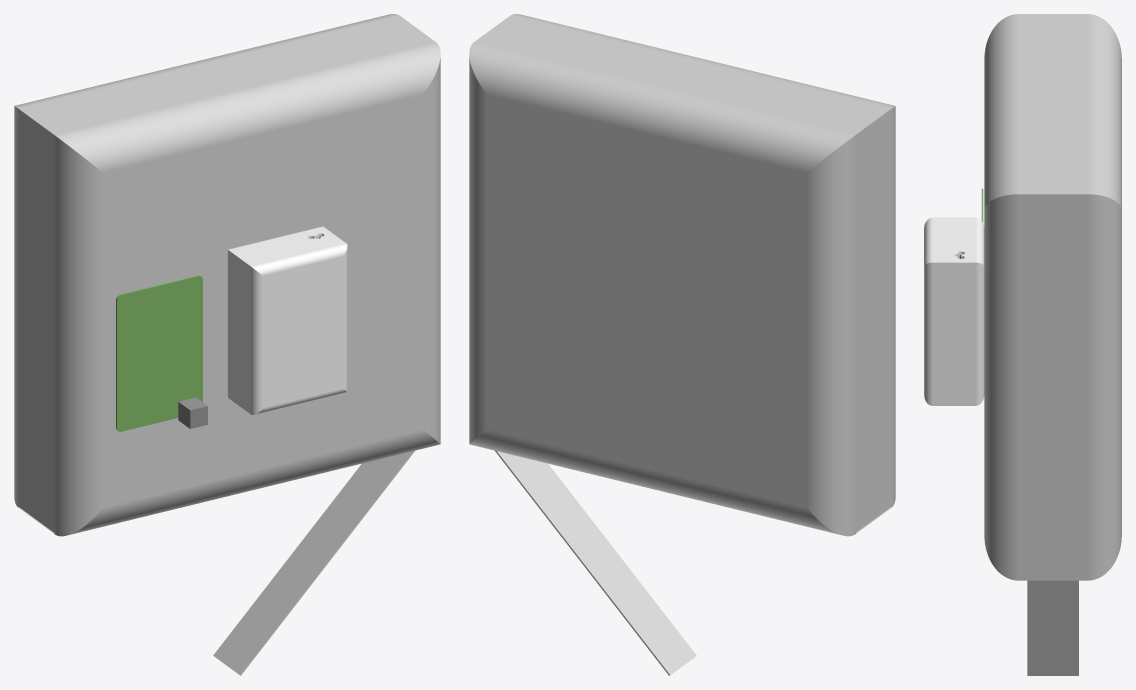
File: MNet.obj
3 renders of one model, left to right at view 1: azimuth 30°, elevation 25°; view 2: azimuth 150°, elevation 25°; view 3: azimuth 270°, elevation 25°, orthographic. The views are drawn at different scales.
Parts seen in each view (by area): view 1: mesh38, mesh41, mesh37, mesh31, mesh30, mesh24, mesh83, mesh102, mesh40, mesh39, mesh75, mesh74 (+5 smaller); view 2: mesh33, mesh35, mesh32, mesh31, mesh30, mesh102, mesh36, mesh34, mesh41, mesh37; view 3: mesh29, mesh34, mesh39, mesh30, mesh76, mesh32, mesh37, mesh103, mesh74, mesh80, mesh85, mesh77 (+1 smaller).
Boxes of the visible parts, bbox=[...] form: mesh38: bbox=[103, 95, 422, 507]; mesh41: bbox=[54, 135, 102, 536]; mesh37: bbox=[55, 42, 440, 172]; mesh31: bbox=[19, 109, 54, 532]; mesh30: bbox=[19, 16, 435, 134]; mesh24: bbox=[117, 276, 202, 431]; mesh83: bbox=[263, 256, 342, 407]; mesh102: bbox=[213, 451, 412, 674]; mesh40: bbox=[69, 429, 440, 534]; mesh39: bbox=[423, 57, 440, 443]; mesh75: bbox=[228, 250, 250, 414]; mesh74: bbox=[229, 227, 345, 266]; mesh33: bbox=[487, 95, 806, 507]; mesh35: bbox=[807, 135, 855, 536]; mesh32: bbox=[469, 42, 854, 172]; mesh31: bbox=[855, 109, 890, 532]; mesh30: bbox=[474, 16, 890, 134]; mesh102: bbox=[497, 451, 696, 674]; mesh36: bbox=[469, 429, 840, 534]; mesh34: bbox=[469, 57, 486, 443]; mesh41: bbox=[891, 106, 895, 507]; mesh37: bbox=[510, 14, 894, 108]; mesh29: bbox=[1018, 194, 1087, 580]; mesh34: bbox=[1087, 194, 1121, 580]; mesh39: bbox=[984, 194, 1018, 580]; mesh30: bbox=[1018, 14, 1087, 194]; mesh76: bbox=[932, 262, 975, 405]; mesh32: bbox=[1087, 14, 1121, 209]; mesh37: bbox=[984, 14, 1018, 208]; mesh103: bbox=[1027, 580, 1078, 675]; mesh74: bbox=[932, 217, 975, 262]; mesh80: bbox=[975, 262, 984, 405]; mesh85: bbox=[924, 262, 932, 405]; mesh77: bbox=[975, 217, 984, 265].
Size of the model in its own units: 0.2487 by 0.367 by 0.115.
